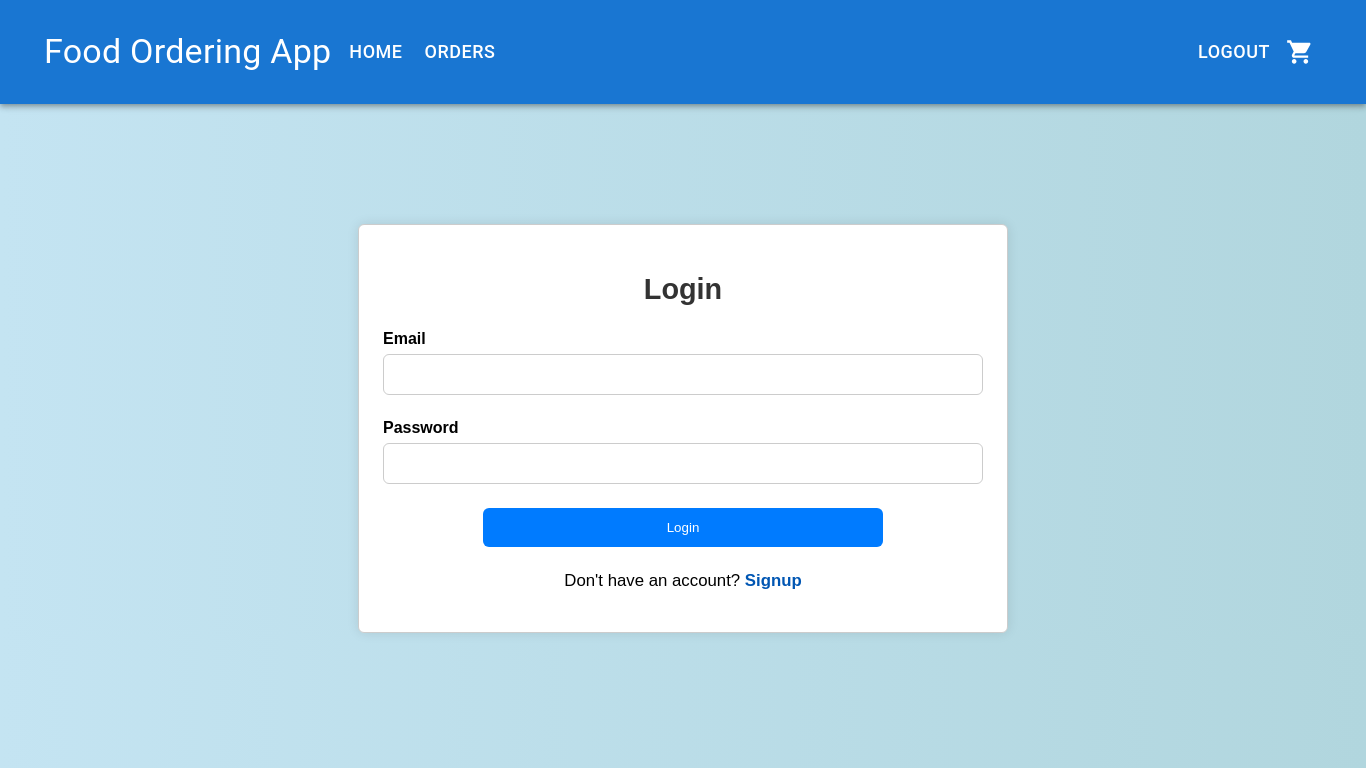
Scenario: Login Component › displays an error message for invalid credentials
Step 1. Type "invalid@example.com" into the field with test id "email-input" → (683, 374), box [383, 354, 983, 395]
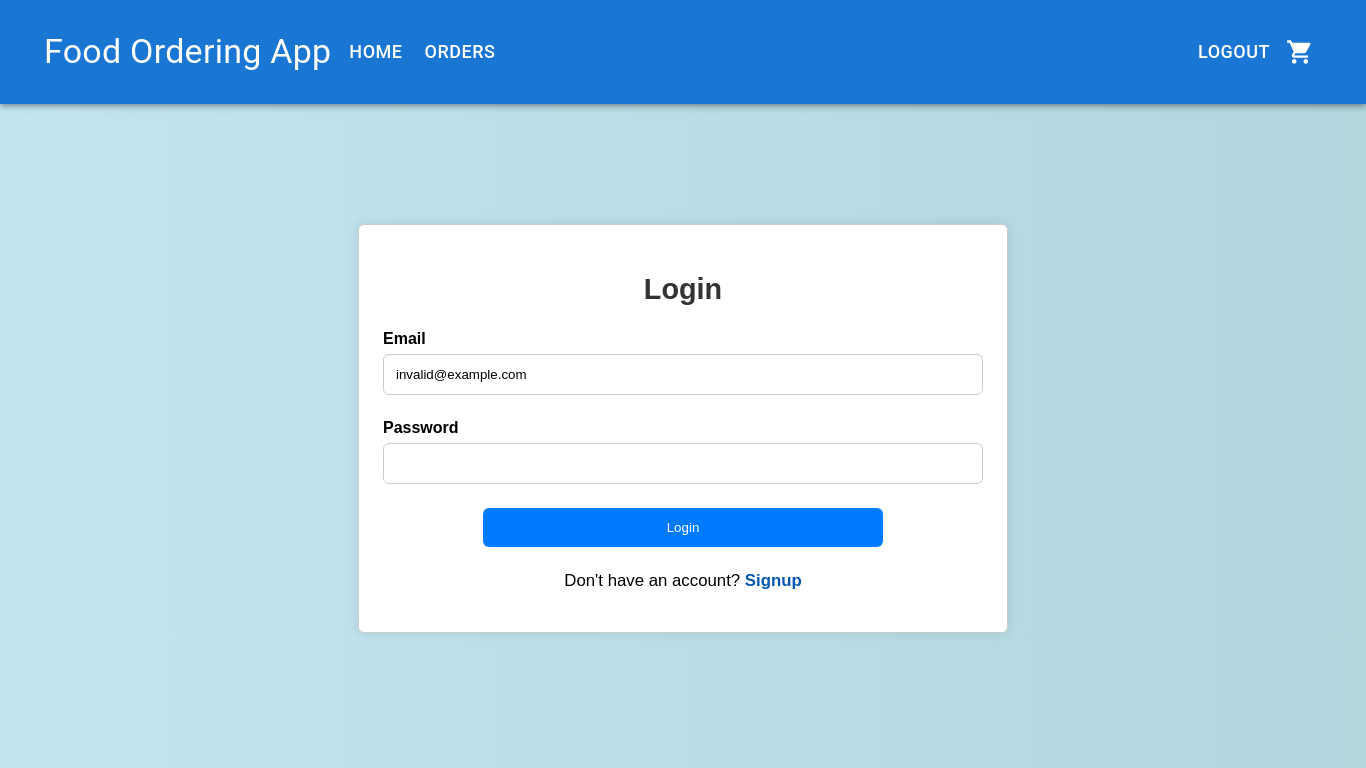
Step 2. Type "invalidpassword" into the password field with test id "password-input" → (683, 463), box [383, 443, 983, 484]
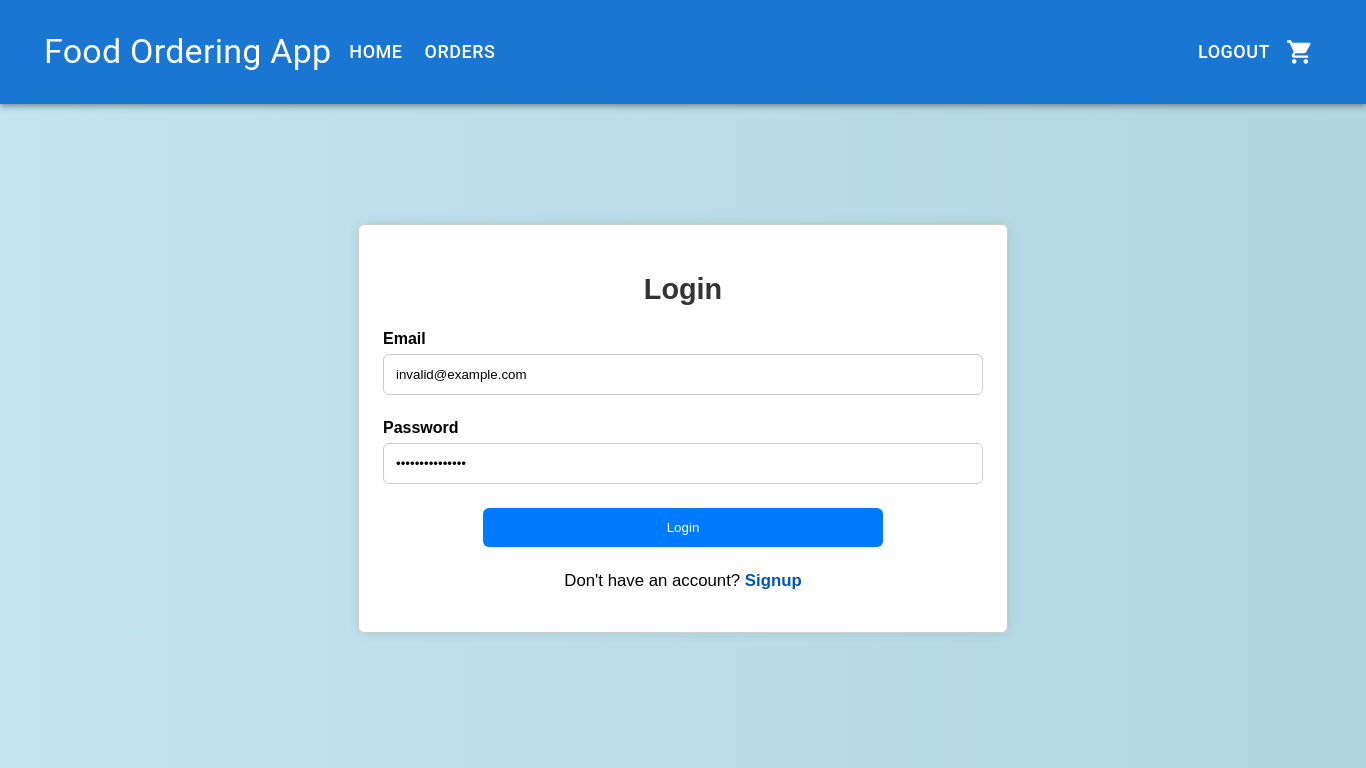
Step 3. Click the button with test id "login-button" → (683, 527), box [483, 508, 883, 547]
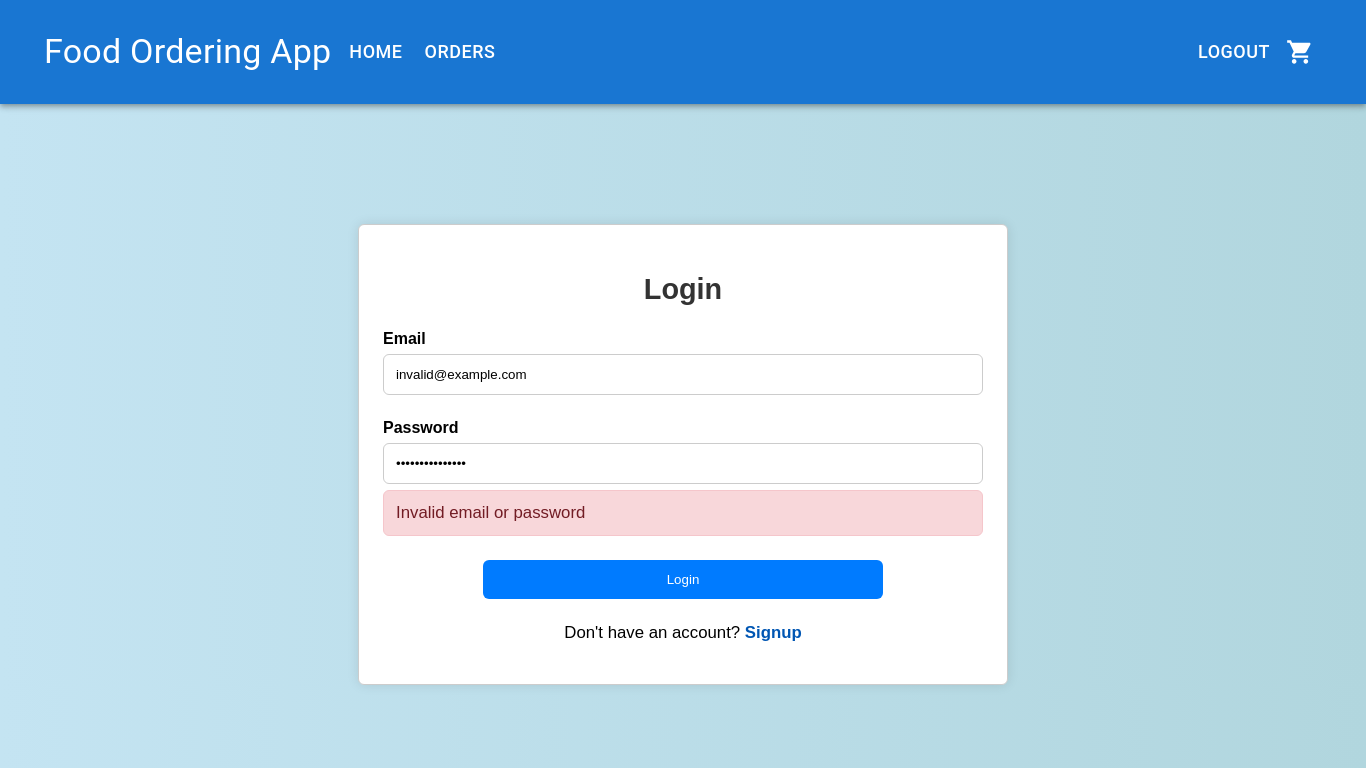
Expected: the text "Invalid email or password" is shown, [383, 490, 983, 536]
